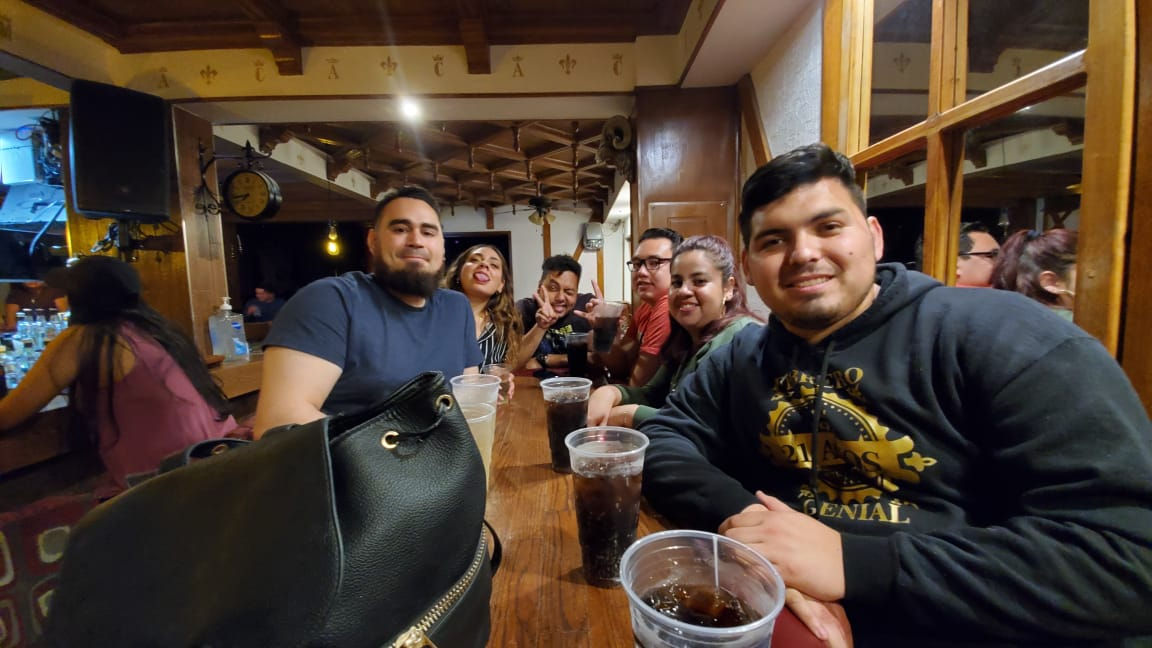Yoshi: (523, 245, 588, 341)
